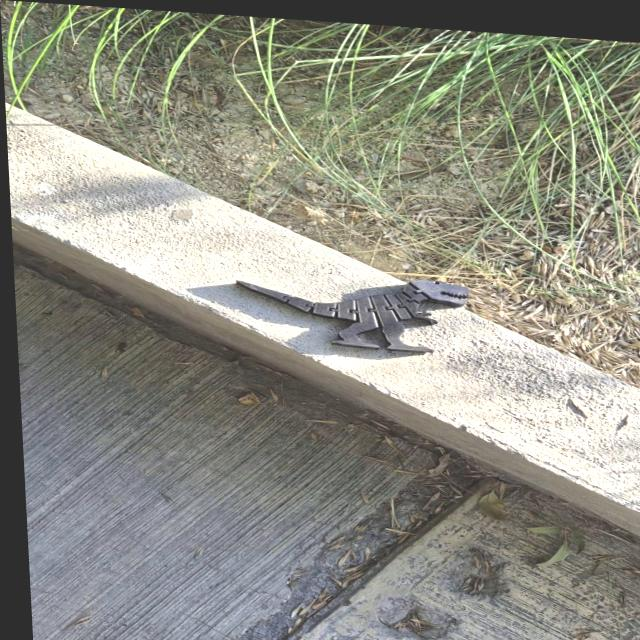dino: (234, 266, 474, 357)
